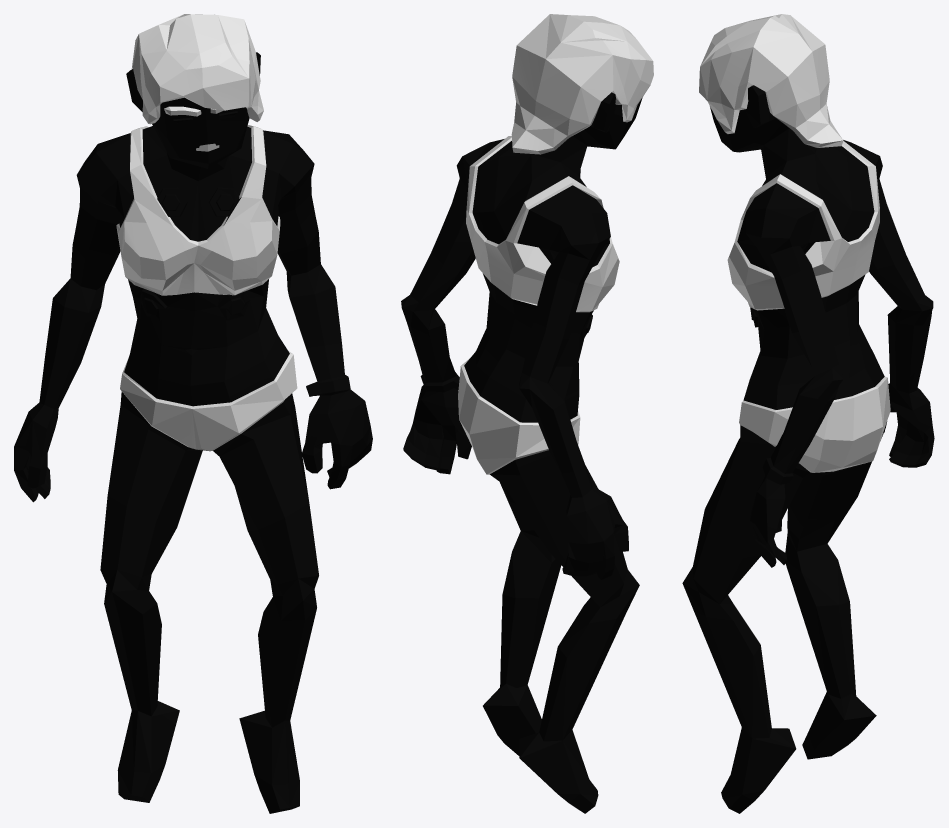
Rendered from space_SM_Prop_Chr_Female_Cryo_02.gltf.
3 renders of one model, left to right at view 1: azimuth 30°, elevation 25°; view 2: azimuth 150°, elevation 25°; view 3: azimuth 270°, elevation 25°, orthographic. The views are drawn at different scales.
Visible parts, largest first — view 1: SM_Prop_Chr_Female_Cryo_02; view 2: SM_Prop_Chr_Female_Cryo_02; view 3: SM_Prop_Chr_Female_Cryo_02.
Boxes of the visible parts, left/top/right/bottom form: SM_Prop_Chr_Female_Cryo_02: left=14, top=14, right=372, bottom=813; SM_Prop_Chr_Female_Cryo_02: left=401, top=14, right=653, bottom=813; SM_Prop_Chr_Female_Cryo_02: left=682, top=14, right=934, bottom=813.
Size of the model in its own units: 0.69 by 1.84 by 0.5547.
Materials: 1 (1 with a texture image).
